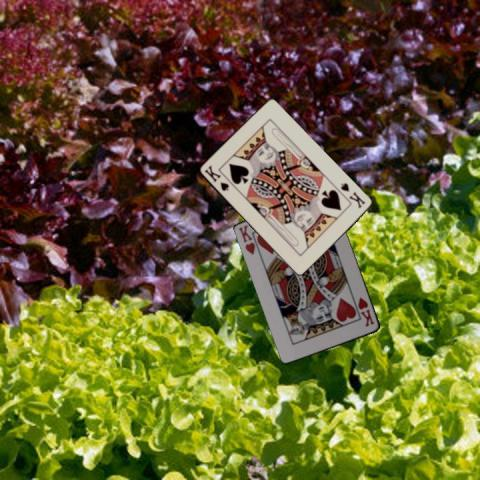Kh: (236, 222, 257, 256), (355, 295, 376, 328)
Ks: (201, 162, 230, 193), (337, 180, 367, 209)
